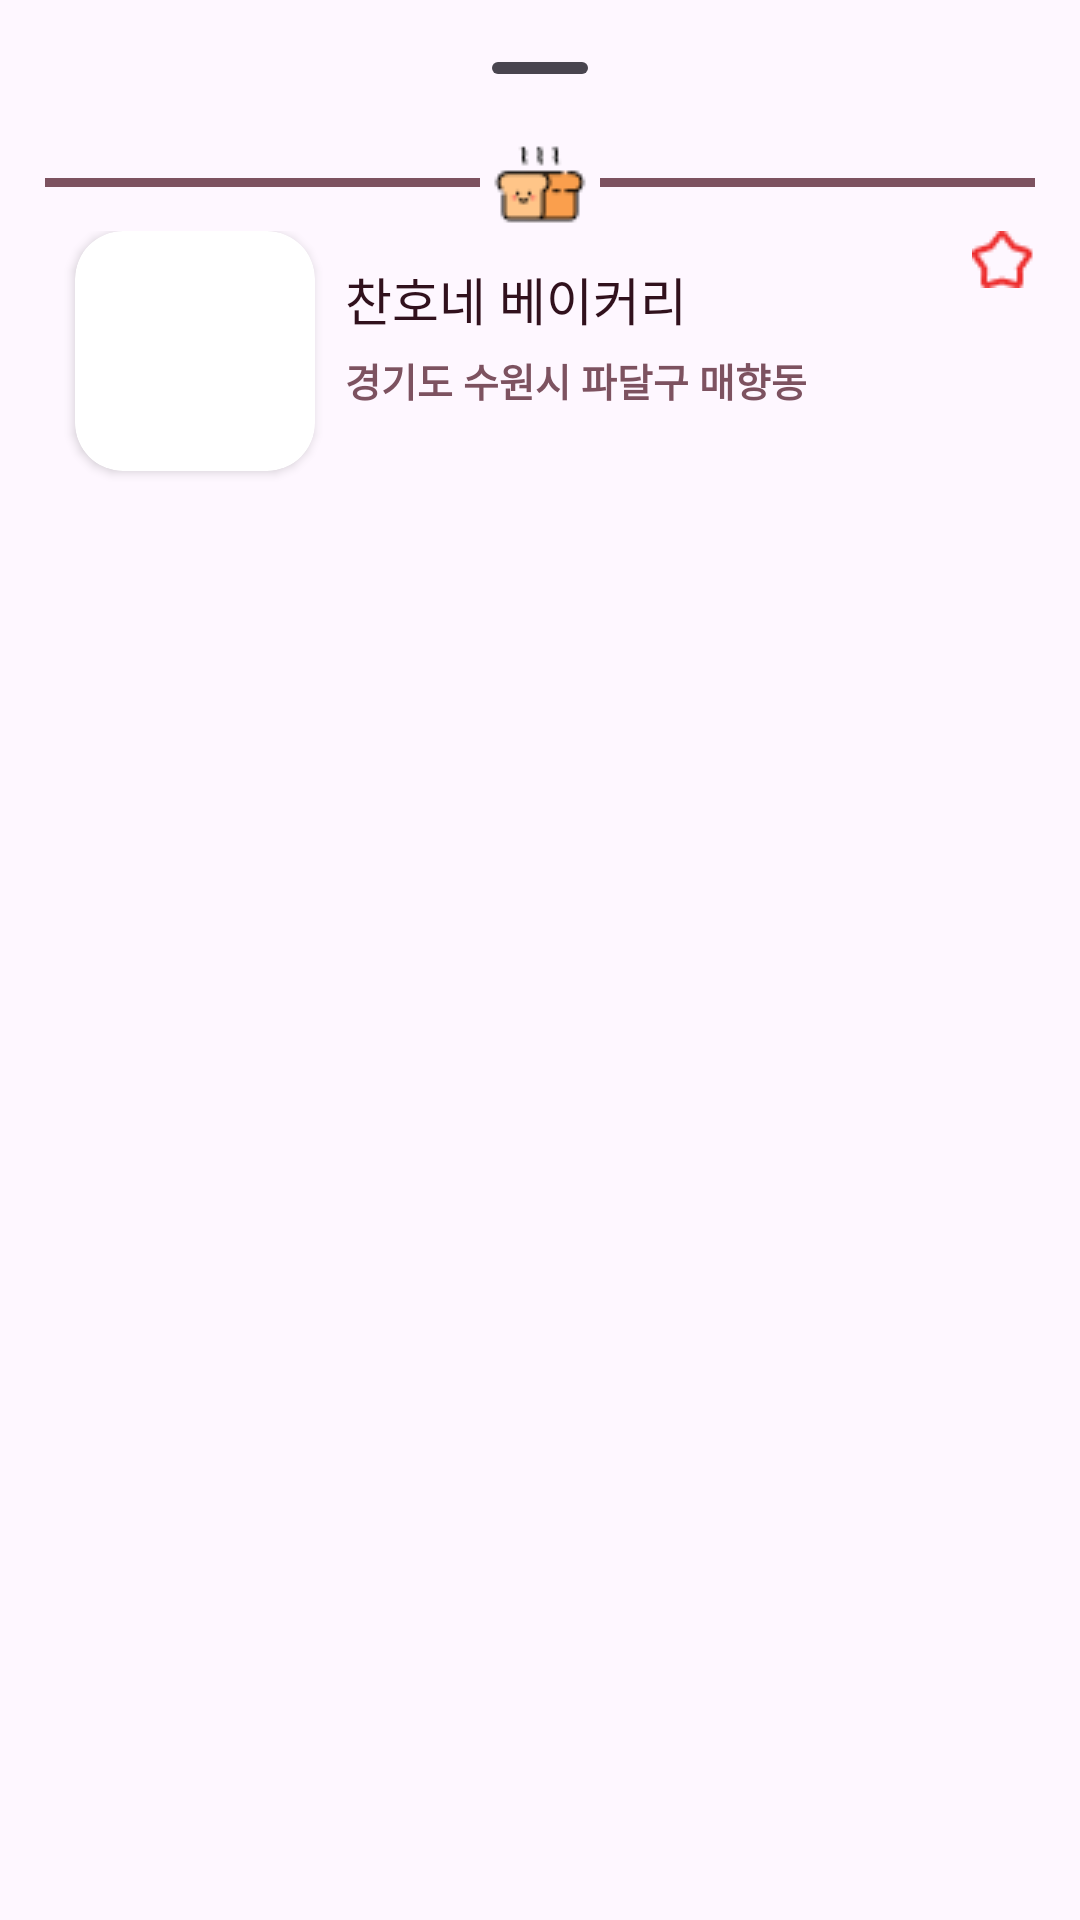

Icon click points for this 1080px×1920px phone screenshot, format (x=x, y=y):
mini bread: (x=540, y=184)
